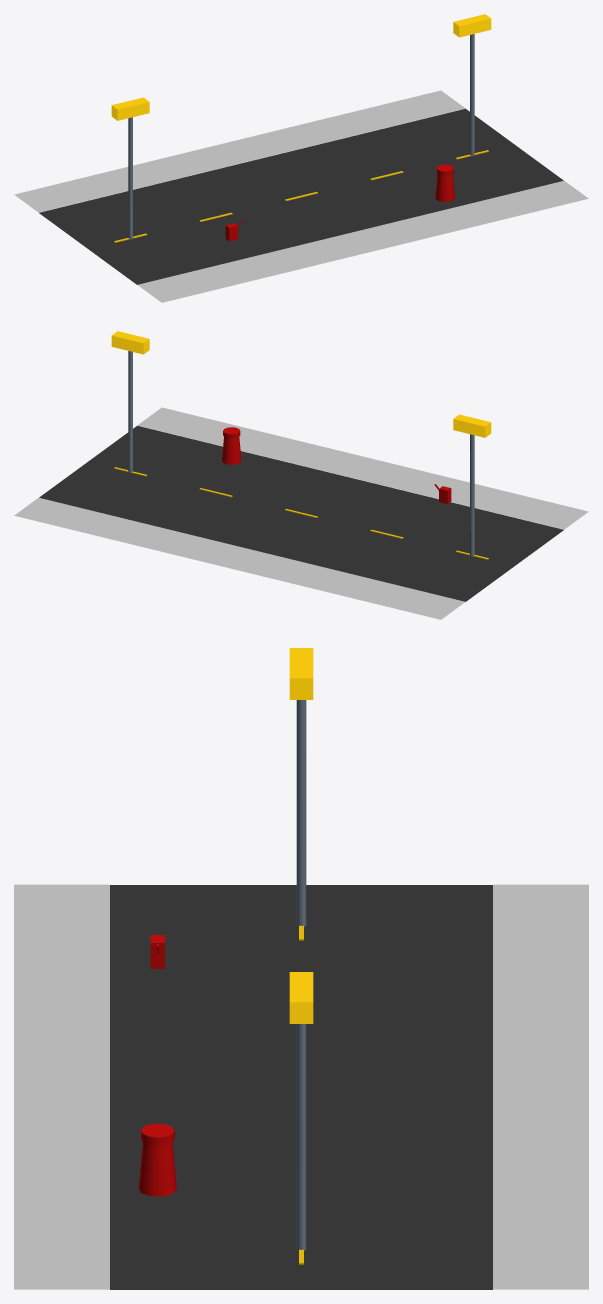
The model's file is street_scene_1965.glb.
3 views of the same model, one above another, from view 1: azimuth 30°, elevation 25°; view 2: azimuth 150°, elevation 25°; view 3: azimuth 270°, elevation 25° (orthographic). The views are drawn at different scales.
Parts seen in each view (by area): view 1: road, object 7, object 8, object 10, object 12, object 11, object 9, object 13; view 2: road, object 8, object 7, object 10, object 12, object 11, object 9, object 13; view 3: road, object 7, object 8, object 9, object 11, object 13, object 10, object 12.
Boxes of the visible parts, x1,y1,x2,y2 form: road: (39,108,563,284); object 7: (137,180,588,302); object 8: (14,90,465,212); object 10: (453,14,491,37); object 12: (111,97,149,120); object 11: (128,117,132,239); object 9: (470,34,474,156); object 13: (435,174,454,201); road: (39,425,563,601); object 8: (14,497,465,619); object 7: (137,407,588,529); object 10: (111,331,149,354); object 12: (453,414,491,437); object 11: (470,434,474,556); object 9: (128,351,132,473); object 13: (222,437,241,464); road: (110,885,492,1289); object 7: (14,884,109,1289); object 8: (493,884,588,1289); object 9: (296,1024,306,1250); object 11: (296,700,306,926); object 13: (138,1142,176,1196); object 10: (289,972,313,1023); object 12: (289,648,313,699).
Bounding box in the file's own units: 20 × 6.06 × 12.
